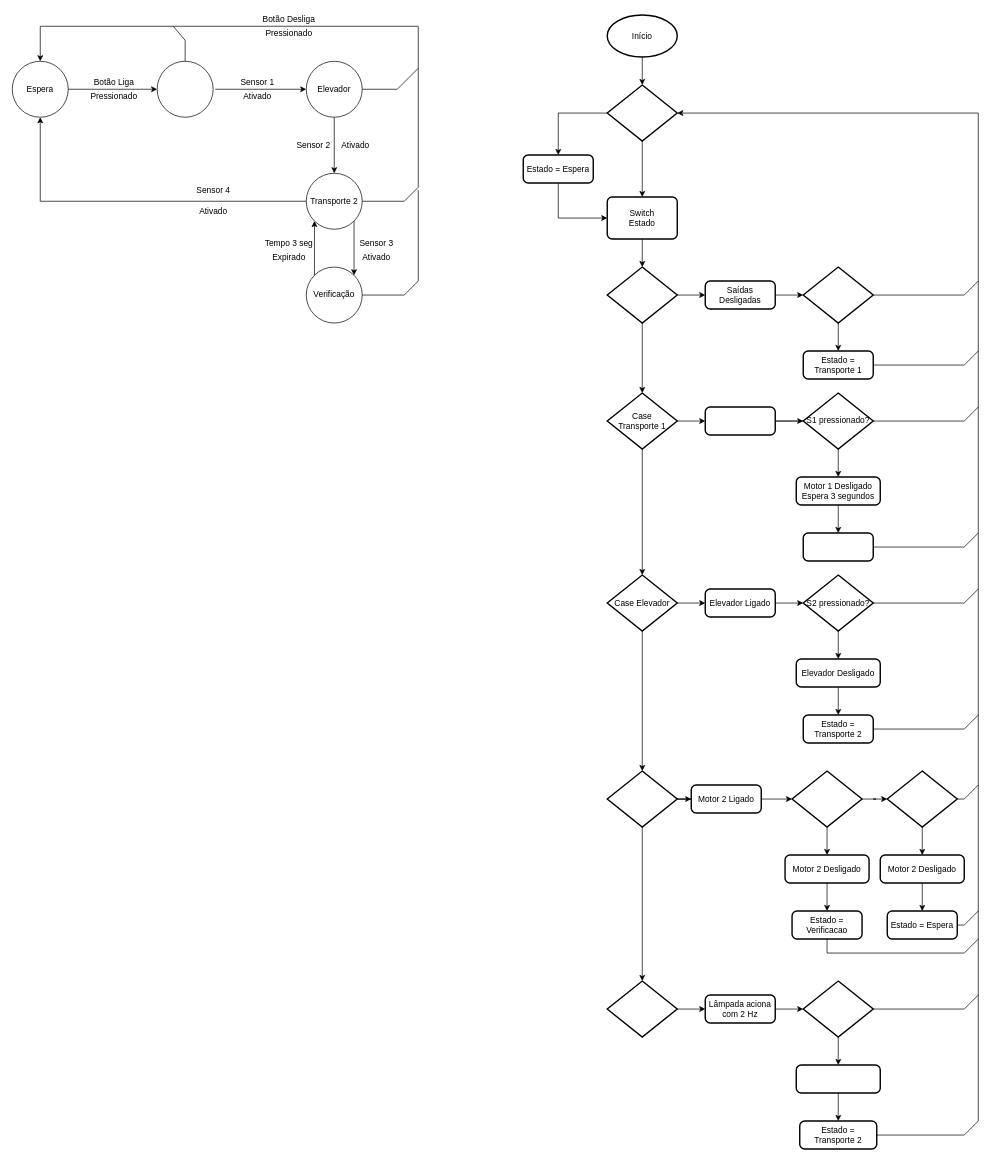
Some shapes in this 996 by 1161 pixel diagram are drawn without their labels. Each missing label, with the centre of its shape:
"Case Espera" goes at pixel 642 294.
"Case Transporte 2" goes at pixel 642 798.
"Case Verificacao" goes at pixel 642 1008.
"Desliga pressionado?" goes at pixel 642 112.
"Estado = Elevador" goes at pixel 838 546.
"Liga pressionado?" goes at pixel 838 294.
"Lâmpada Desligada" goes at pixel 838 1078.
"Motor 1 Ligado" goes at pixel 740 420.
"S3 pressionado?" goes at pixel 826 798.
"S4 pressionado?" goes at pixel 922 798.
"Se passou 3 segundos?" goes at pixel 838 1008.
"Transporte 1" goes at pixel 184 89.
